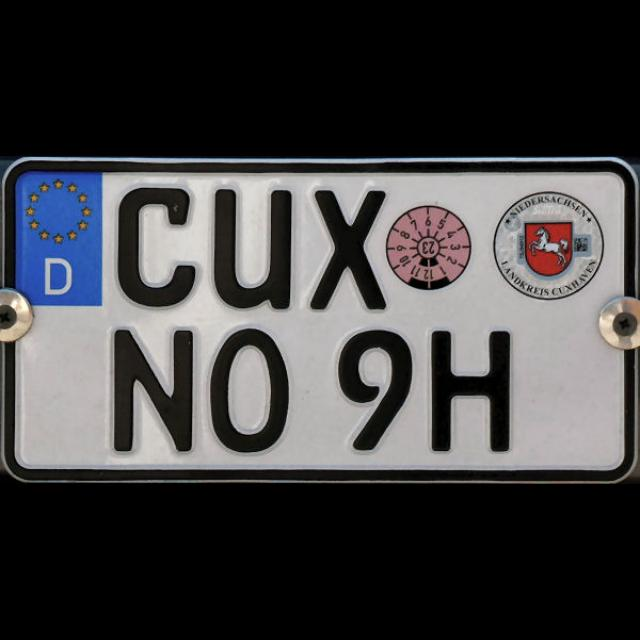d_license_plate: (6, 166, 628, 474)
